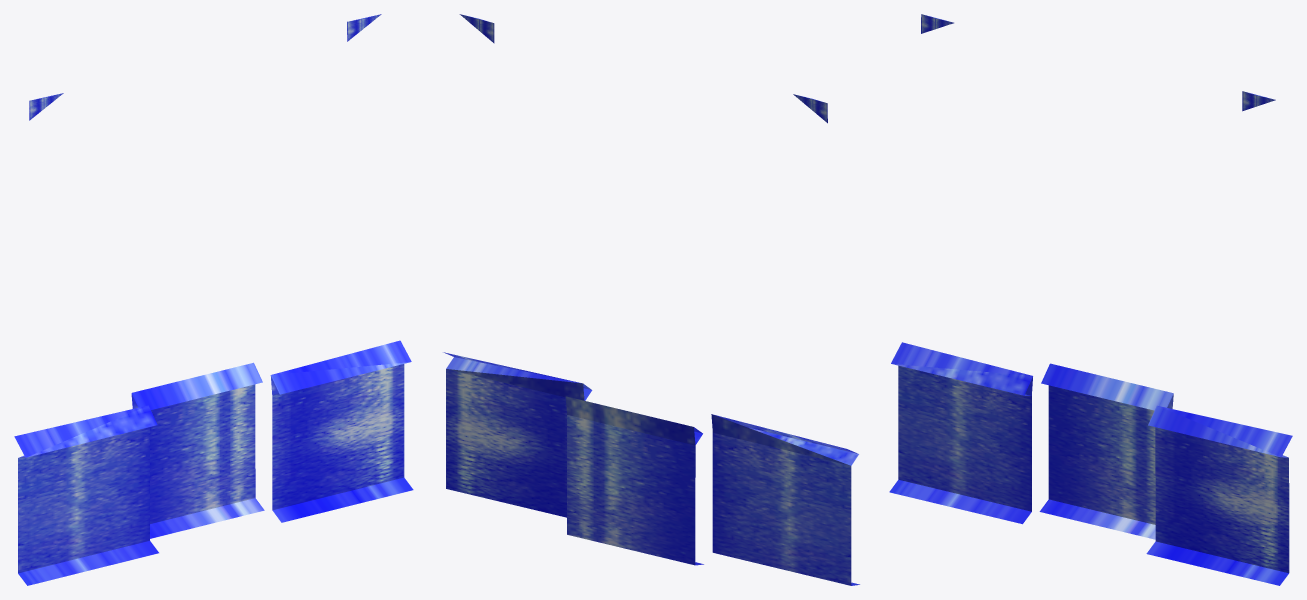
3 views of the same model, side by side, from view 1: azimuth 30°, elevation 25°; view 2: azimuth 150°, elevation 25°; view 3: azimuth 330°, elevation 25° (orthographic). The views are drawn at different scales.
Bounding box in the file's own units: 0.2812 × 0.3254 × 0.036.
Materials: 1 (1 with a texture image).
